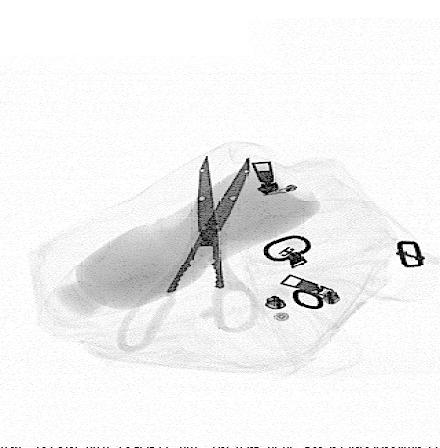Scissors: (116, 154, 261, 352)
